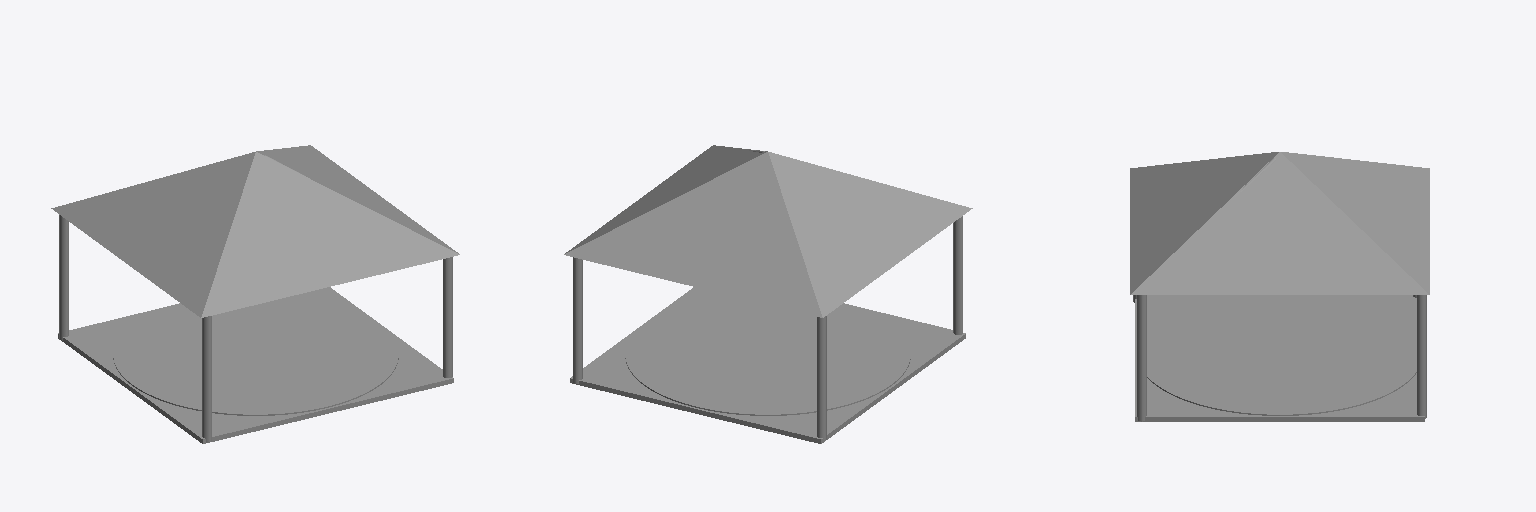
The model's file is house.obj.
The picture shows the model from 3 angles: view 1: azimuth 30°, elevation 25°; view 2: azimuth 150°, elevation 25°; view 3: azimuth 270°, elevation 25°; orthographic projection.
Visible parts, largest first — view 1: Tent, Ride_Surface; view 2: Tent, Ride_Surface; view 3: Tent, Ride_Surface.
Part boxes in pixels (bbox=[...]): Tent: bbox=[51, 145, 459, 443]; Ride_Surface: bbox=[113, 296, 398, 415]; Tent: bbox=[564, 145, 972, 443]; Ride_Surface: bbox=[625, 296, 910, 415]; Tent: bbox=[1130, 152, 1429, 421]; Ride_Surface: bbox=[1147, 295, 1416, 415].
Bounding box in the file's own units: 420 × 323 × 420.